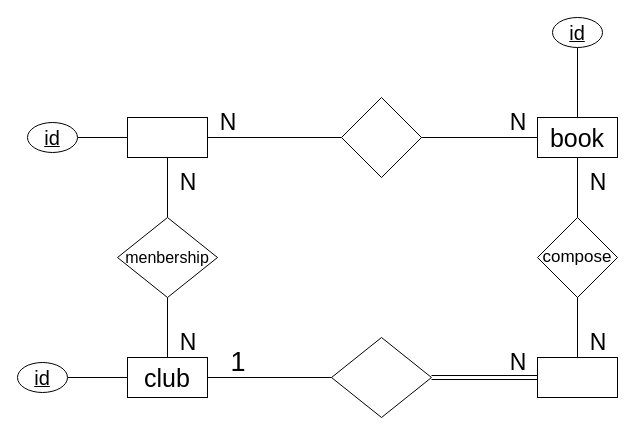
This 635x435 diagram has some shape labels left out. The shapes that lost their labels are listed below. From the top down, each one's centre as x and y in pixels, then its label:
At (x=167, y=137): "user".
At (x=381, y=137): "review".
At (x=381, y=377): "manage".
At (x=577, y=377): "list".
